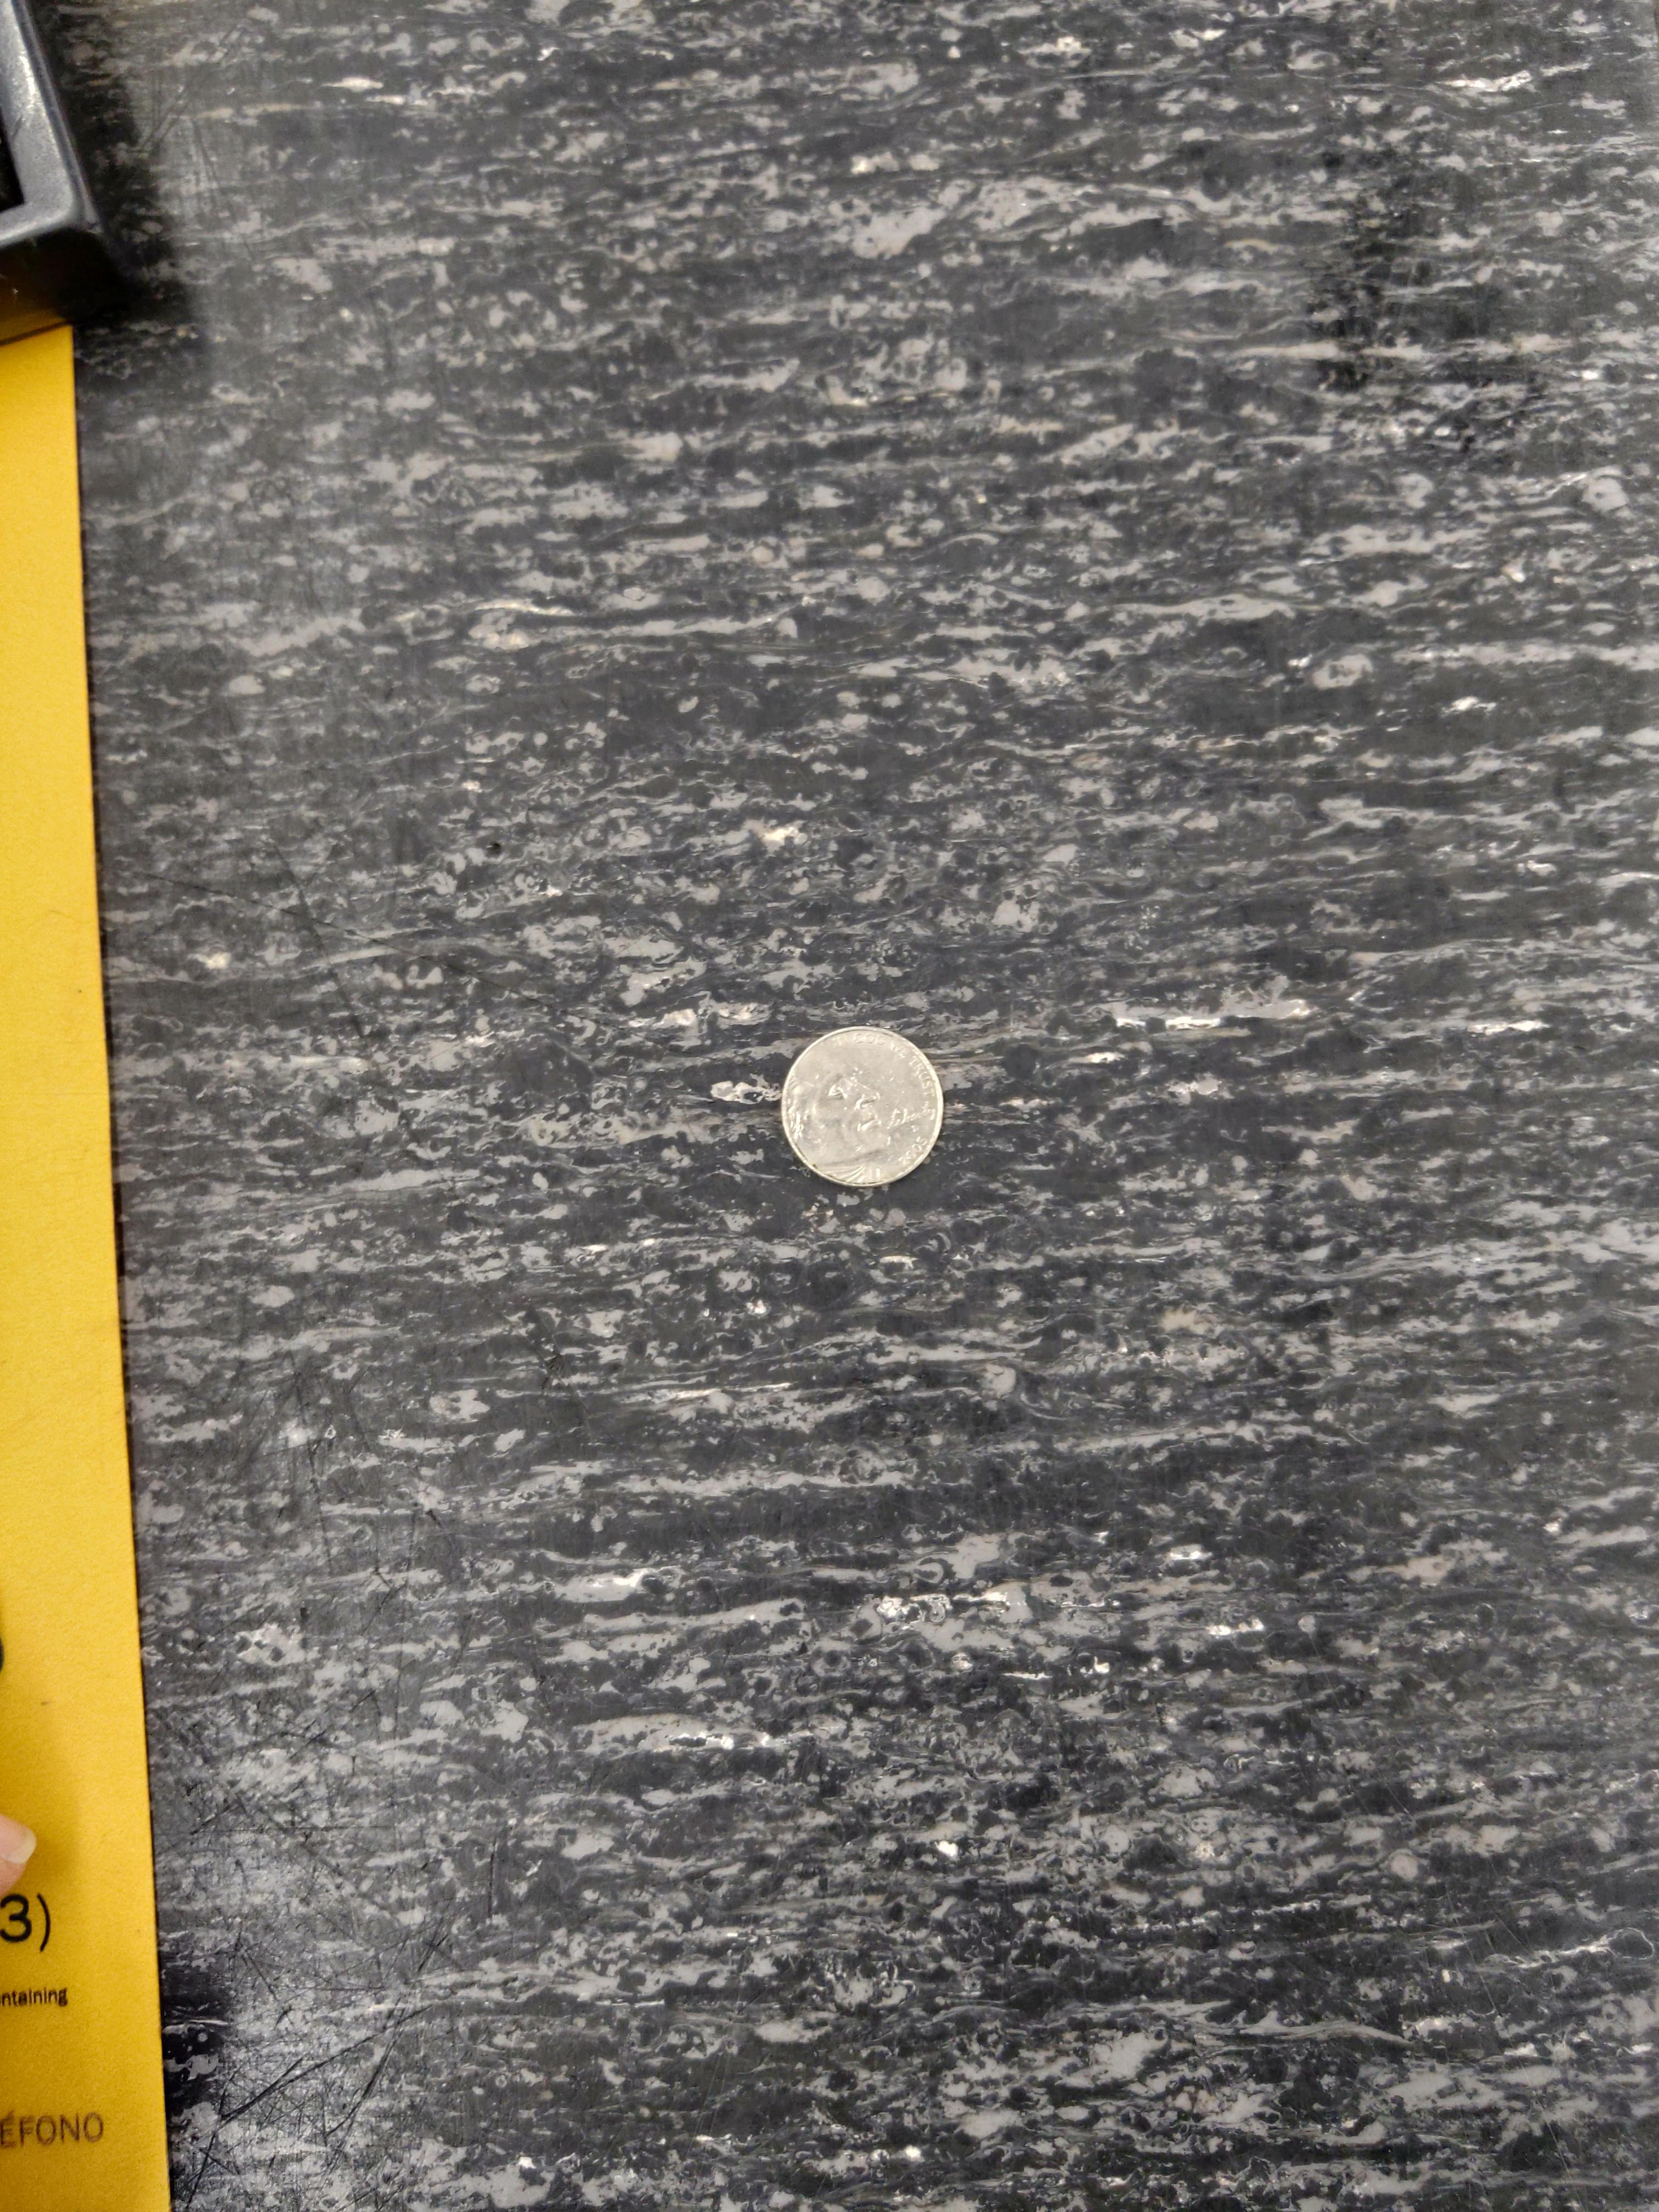Nickel: (781, 1024, 946, 1191)
